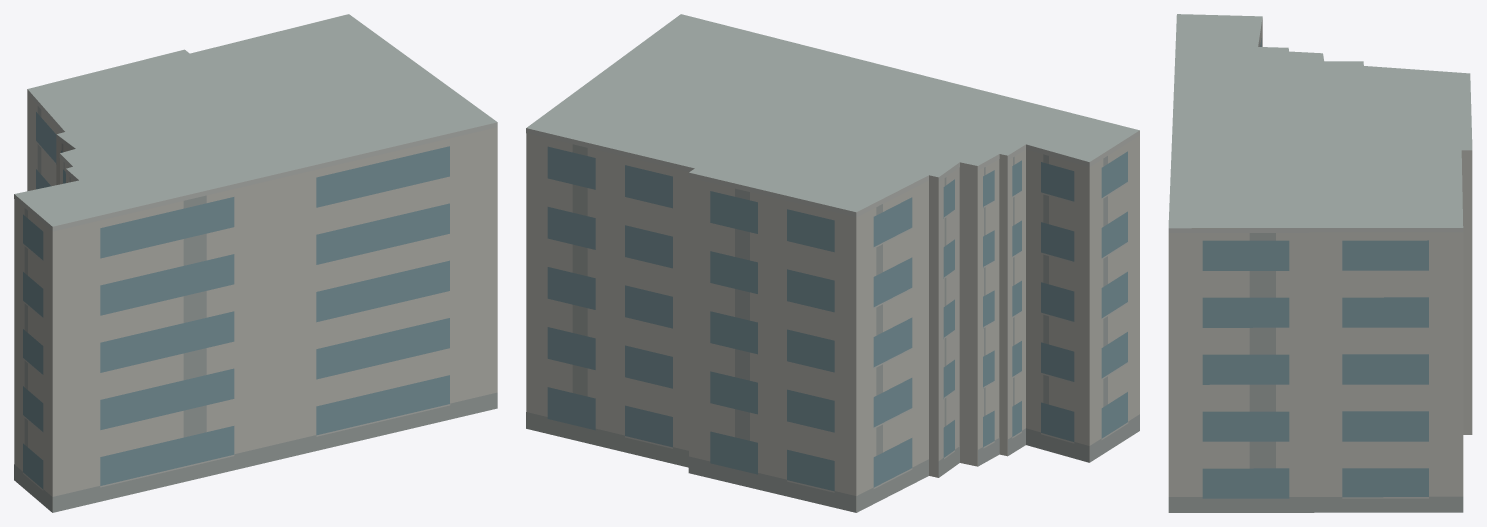
Rendered from survey-upis-32832820.glb.
3 renders of one model, left to right at view 1: azimuth 30°, elevation 25°; view 2: azimuth 150°, elevation 25°; view 3: azimuth 270°, elevation 25°, orthographic. The views are drawn at different scales.
Parts seen in each view (by area): view 1: survey-upis-32832820.tmp; view 2: survey-upis-32832820.tmp; view 3: survey-upis-32832820.tmp.
Part boxes in pixels (x1=…): survey-upis-32832820.tmp: x1=14, y1=14, x2=497, y2=512; survey-upis-32832820.tmp: x1=526, y1=14, x2=1139, y2=512; survey-upis-32832820.tmp: x1=1168, y1=14, x2=1472, y2=512.
Bounding box in the file's own units: 23.23 × 14.4 × 13.94.
